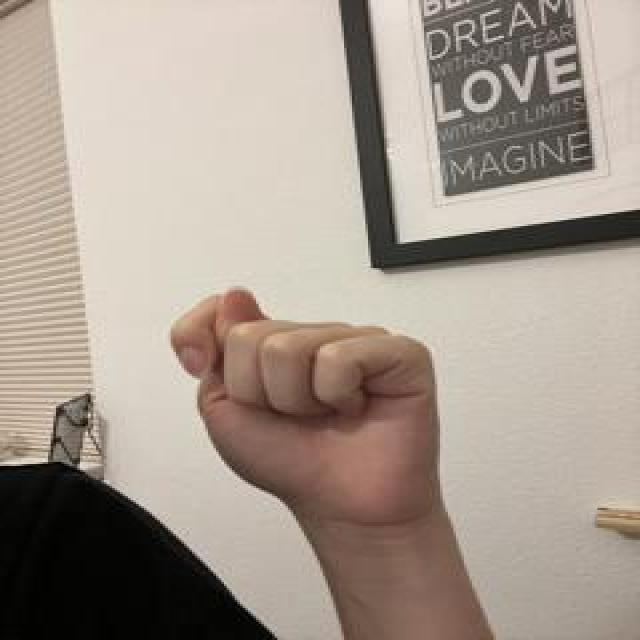T: (163, 283, 456, 523)
